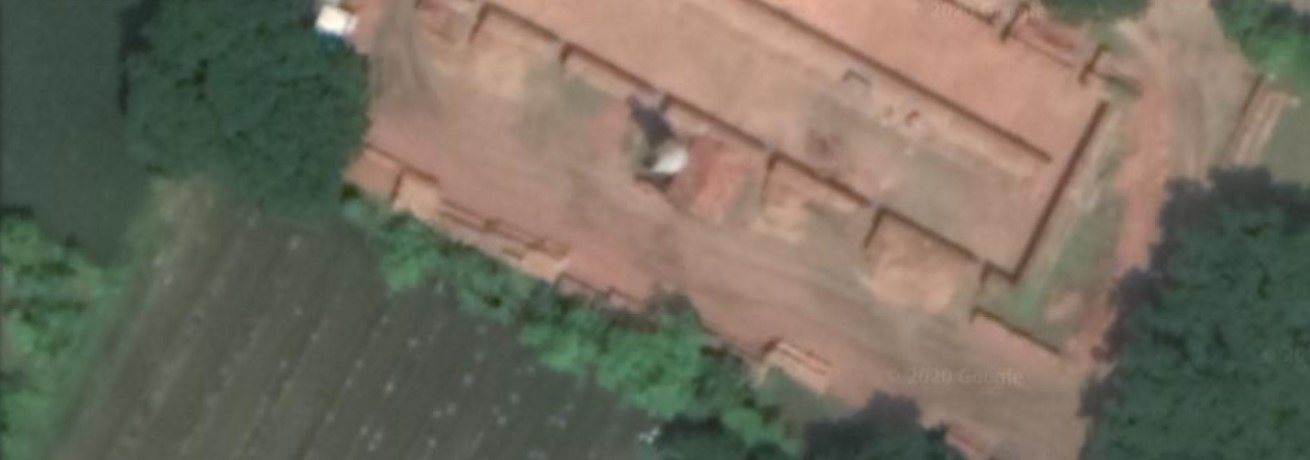kiln: (435, 13, 1133, 276)
